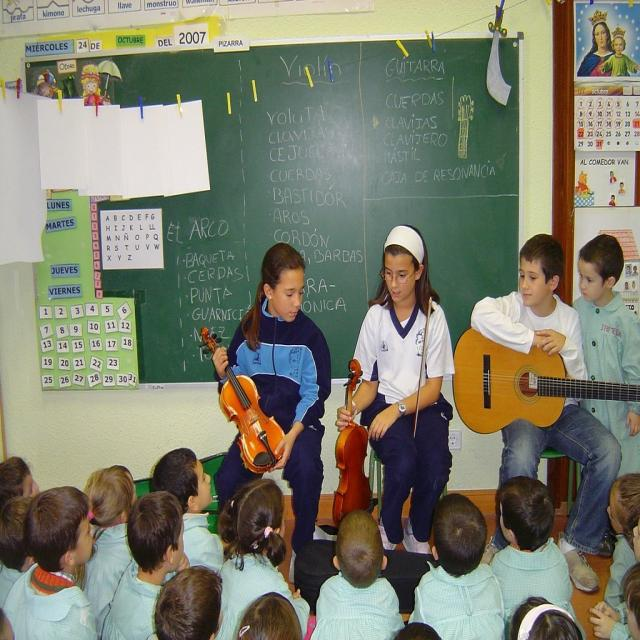guitar: (452, 322, 640, 433)
violin: (201, 328, 288, 474), (331, 356, 372, 526)
